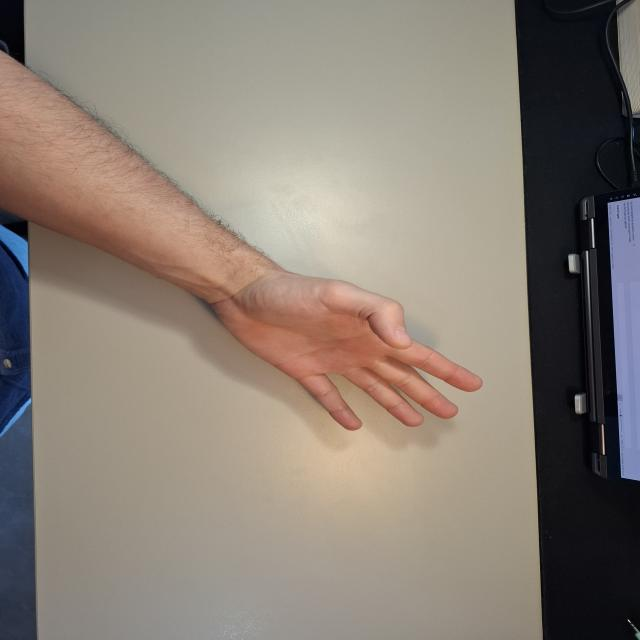glove_off: (203, 264, 486, 432)
